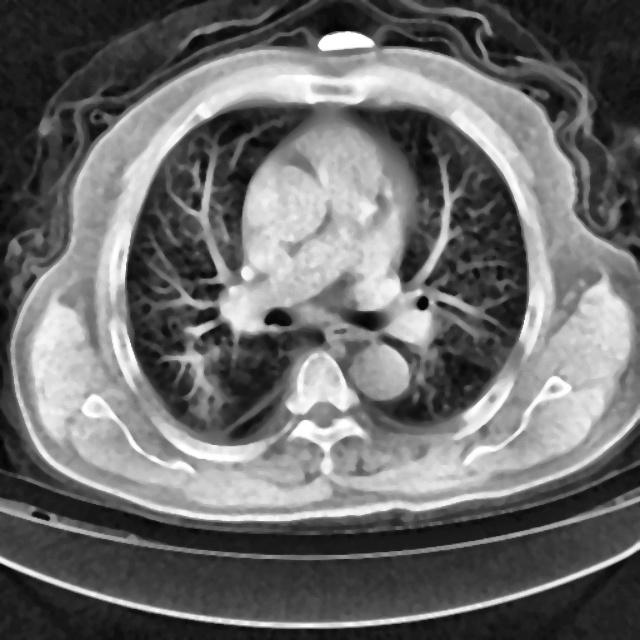covid: (4, 8, 638, 534)
